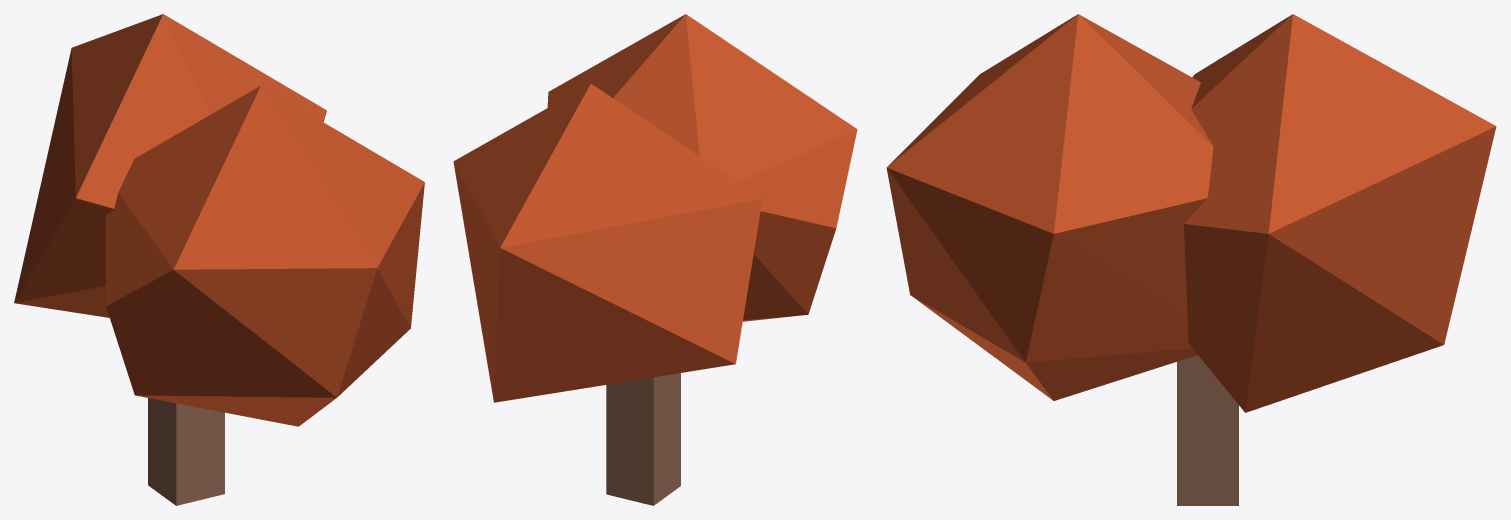
File: world_4_brush_2.dae
3 renders of one model, left to right at view 1: azimuth 30°, elevation 25°; view 2: azimuth 150°, elevation 25°; view 3: azimuth 270°, elevation 25°, orthographic. The views are drawn at different scales.
Visible parts, largest first — view 1: world_4_brush_2_leaves, world_4_brush_2_base; view 2: world_4_brush_2_leaves, world_4_brush_2_base; view 3: world_4_brush_2_leaves, world_4_brush_2_base.
Part boxes in pixels (left/top/right/bottom): world_4_brush_2_leaves: left=14, top=14, right=424, bottom=426; world_4_brush_2_base: left=148, top=398, right=224, bottom=505; world_4_brush_2_leaves: left=453, top=14, right=857, bottom=402; world_4_brush_2_base: left=606, top=373, right=680, bottom=505; world_4_brush_2_leaves: left=886, top=14, right=1496, bottom=412; world_4_brush_2_base: left=1177, top=355, right=1238, bottom=505.
Size of the model in its own units: 0.3628 by 0.5669 by 0.4996.
